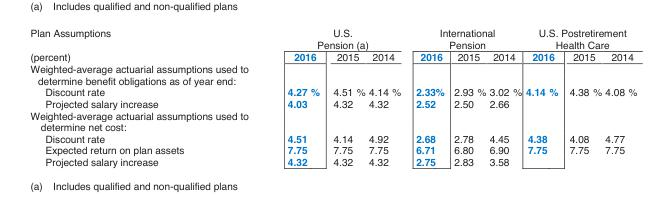table: (29, 28, 636, 167)
table column: (29, 28, 235, 167), (235, 28, 325, 167), (325, 28, 366, 167), (366, 28, 407, 167), (407, 28, 448, 167), (523, 28, 563, 167), (448, 28, 487, 167), (563, 28, 602, 167), (487, 28, 523, 167), (602, 28, 636, 167)
table column header: (29, 28, 636, 63)
table projected row header: (29, 63, 636, 75), (29, 121, 636, 133), (29, 75, 636, 86), (29, 110, 636, 121)
table row: (29, 28, 636, 51), (29, 51, 636, 63), (29, 63, 636, 75), (29, 86, 636, 98), (29, 98, 636, 110), (29, 121, 636, 133), (29, 144, 636, 156), (29, 75, 636, 86), (29, 110, 636, 121), (29, 133, 636, 144), (29, 156, 636, 167)
table spanning cell: (29, 28, 235, 63), (235, 28, 407, 51), (407, 28, 523, 51), (523, 28, 636, 51)
